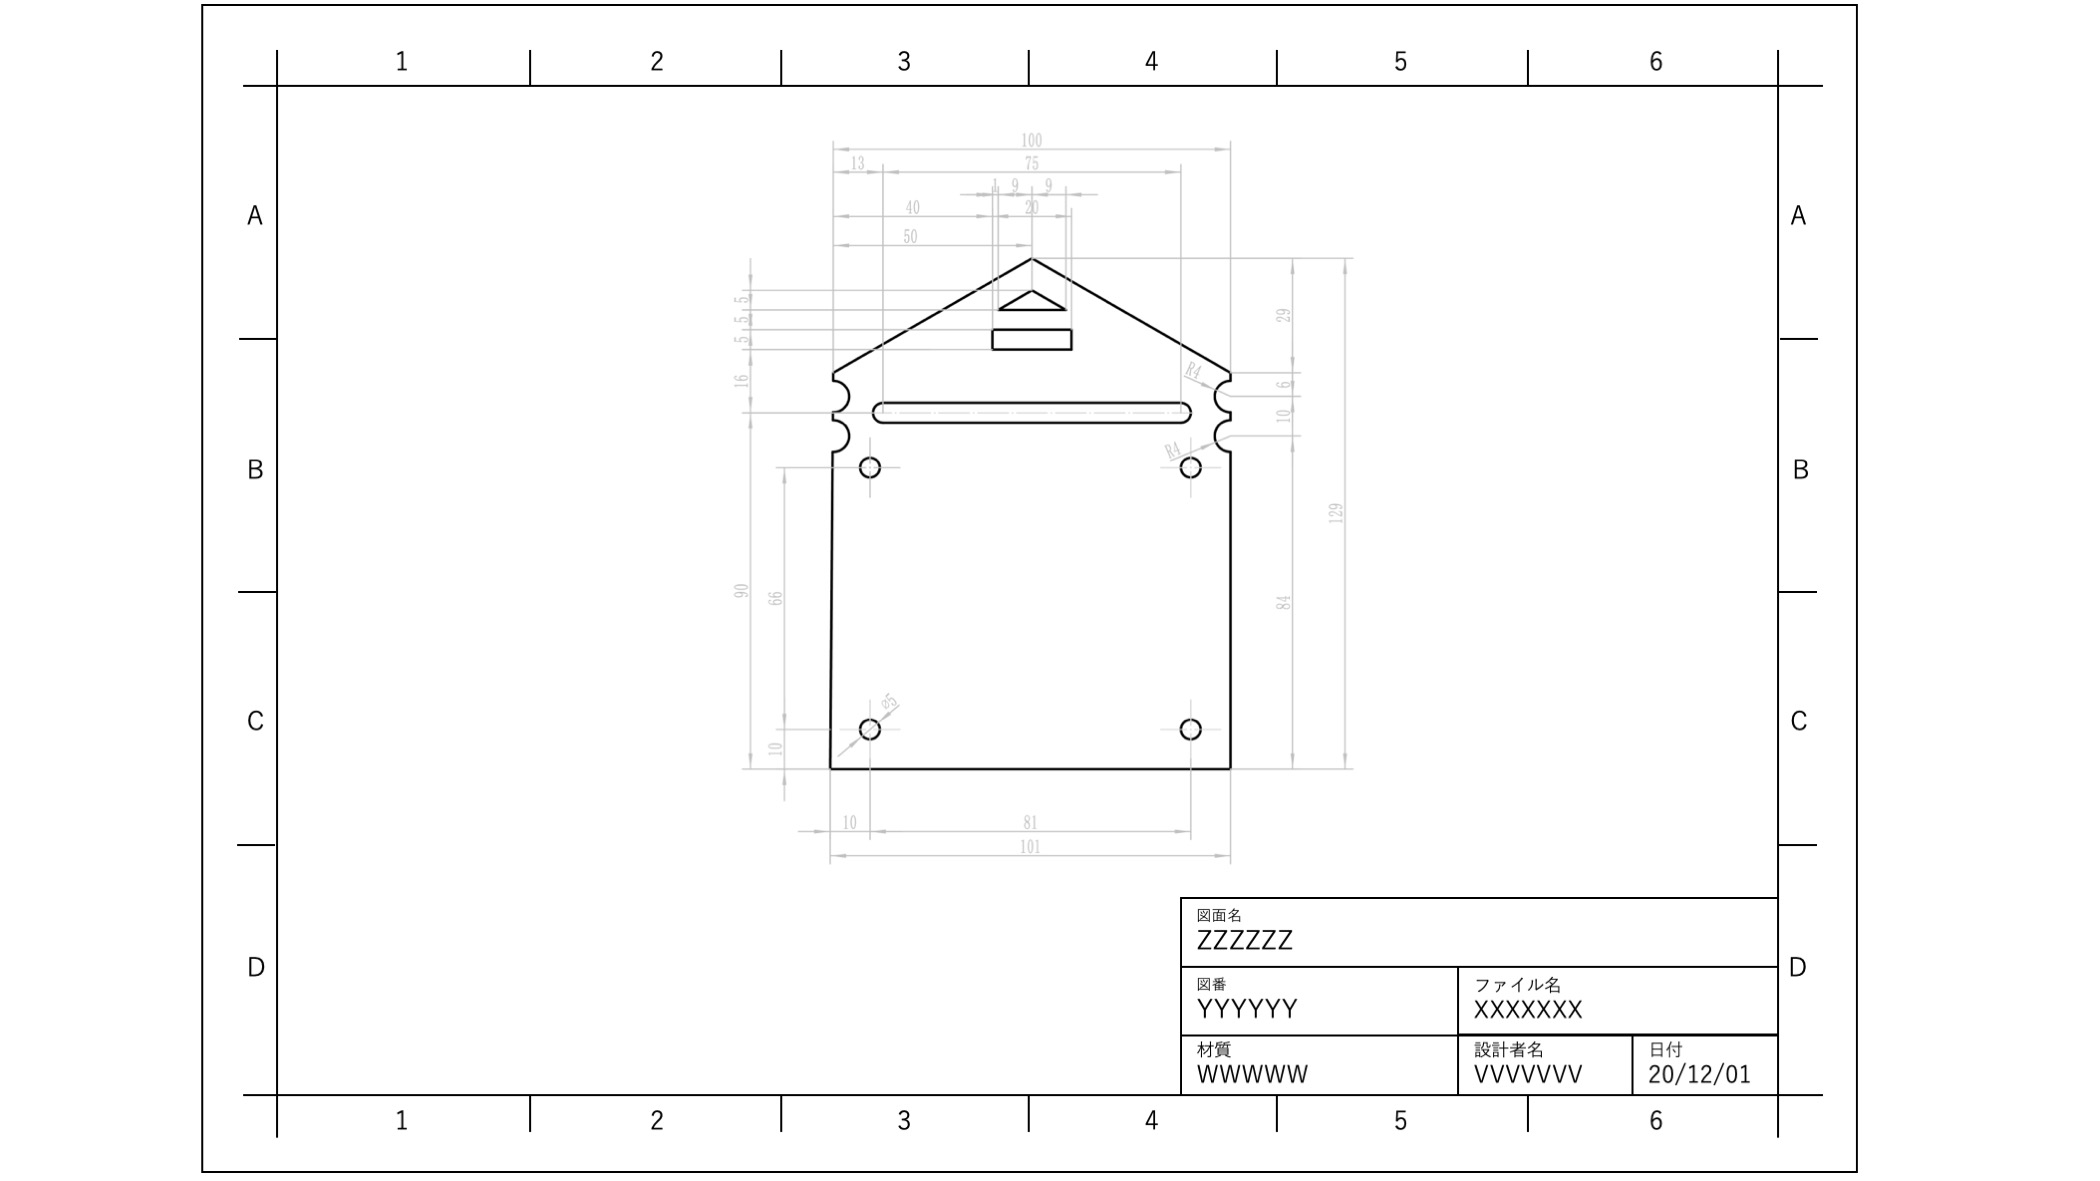circle: (852, 712, 886, 753), (847, 451, 888, 482), (1170, 712, 1206, 746), (1175, 451, 1206, 482)
rectangle: (984, 322, 1080, 361)
round_rectangle: (864, 385, 1196, 433)
triangle: (1001, 278, 1069, 317)
